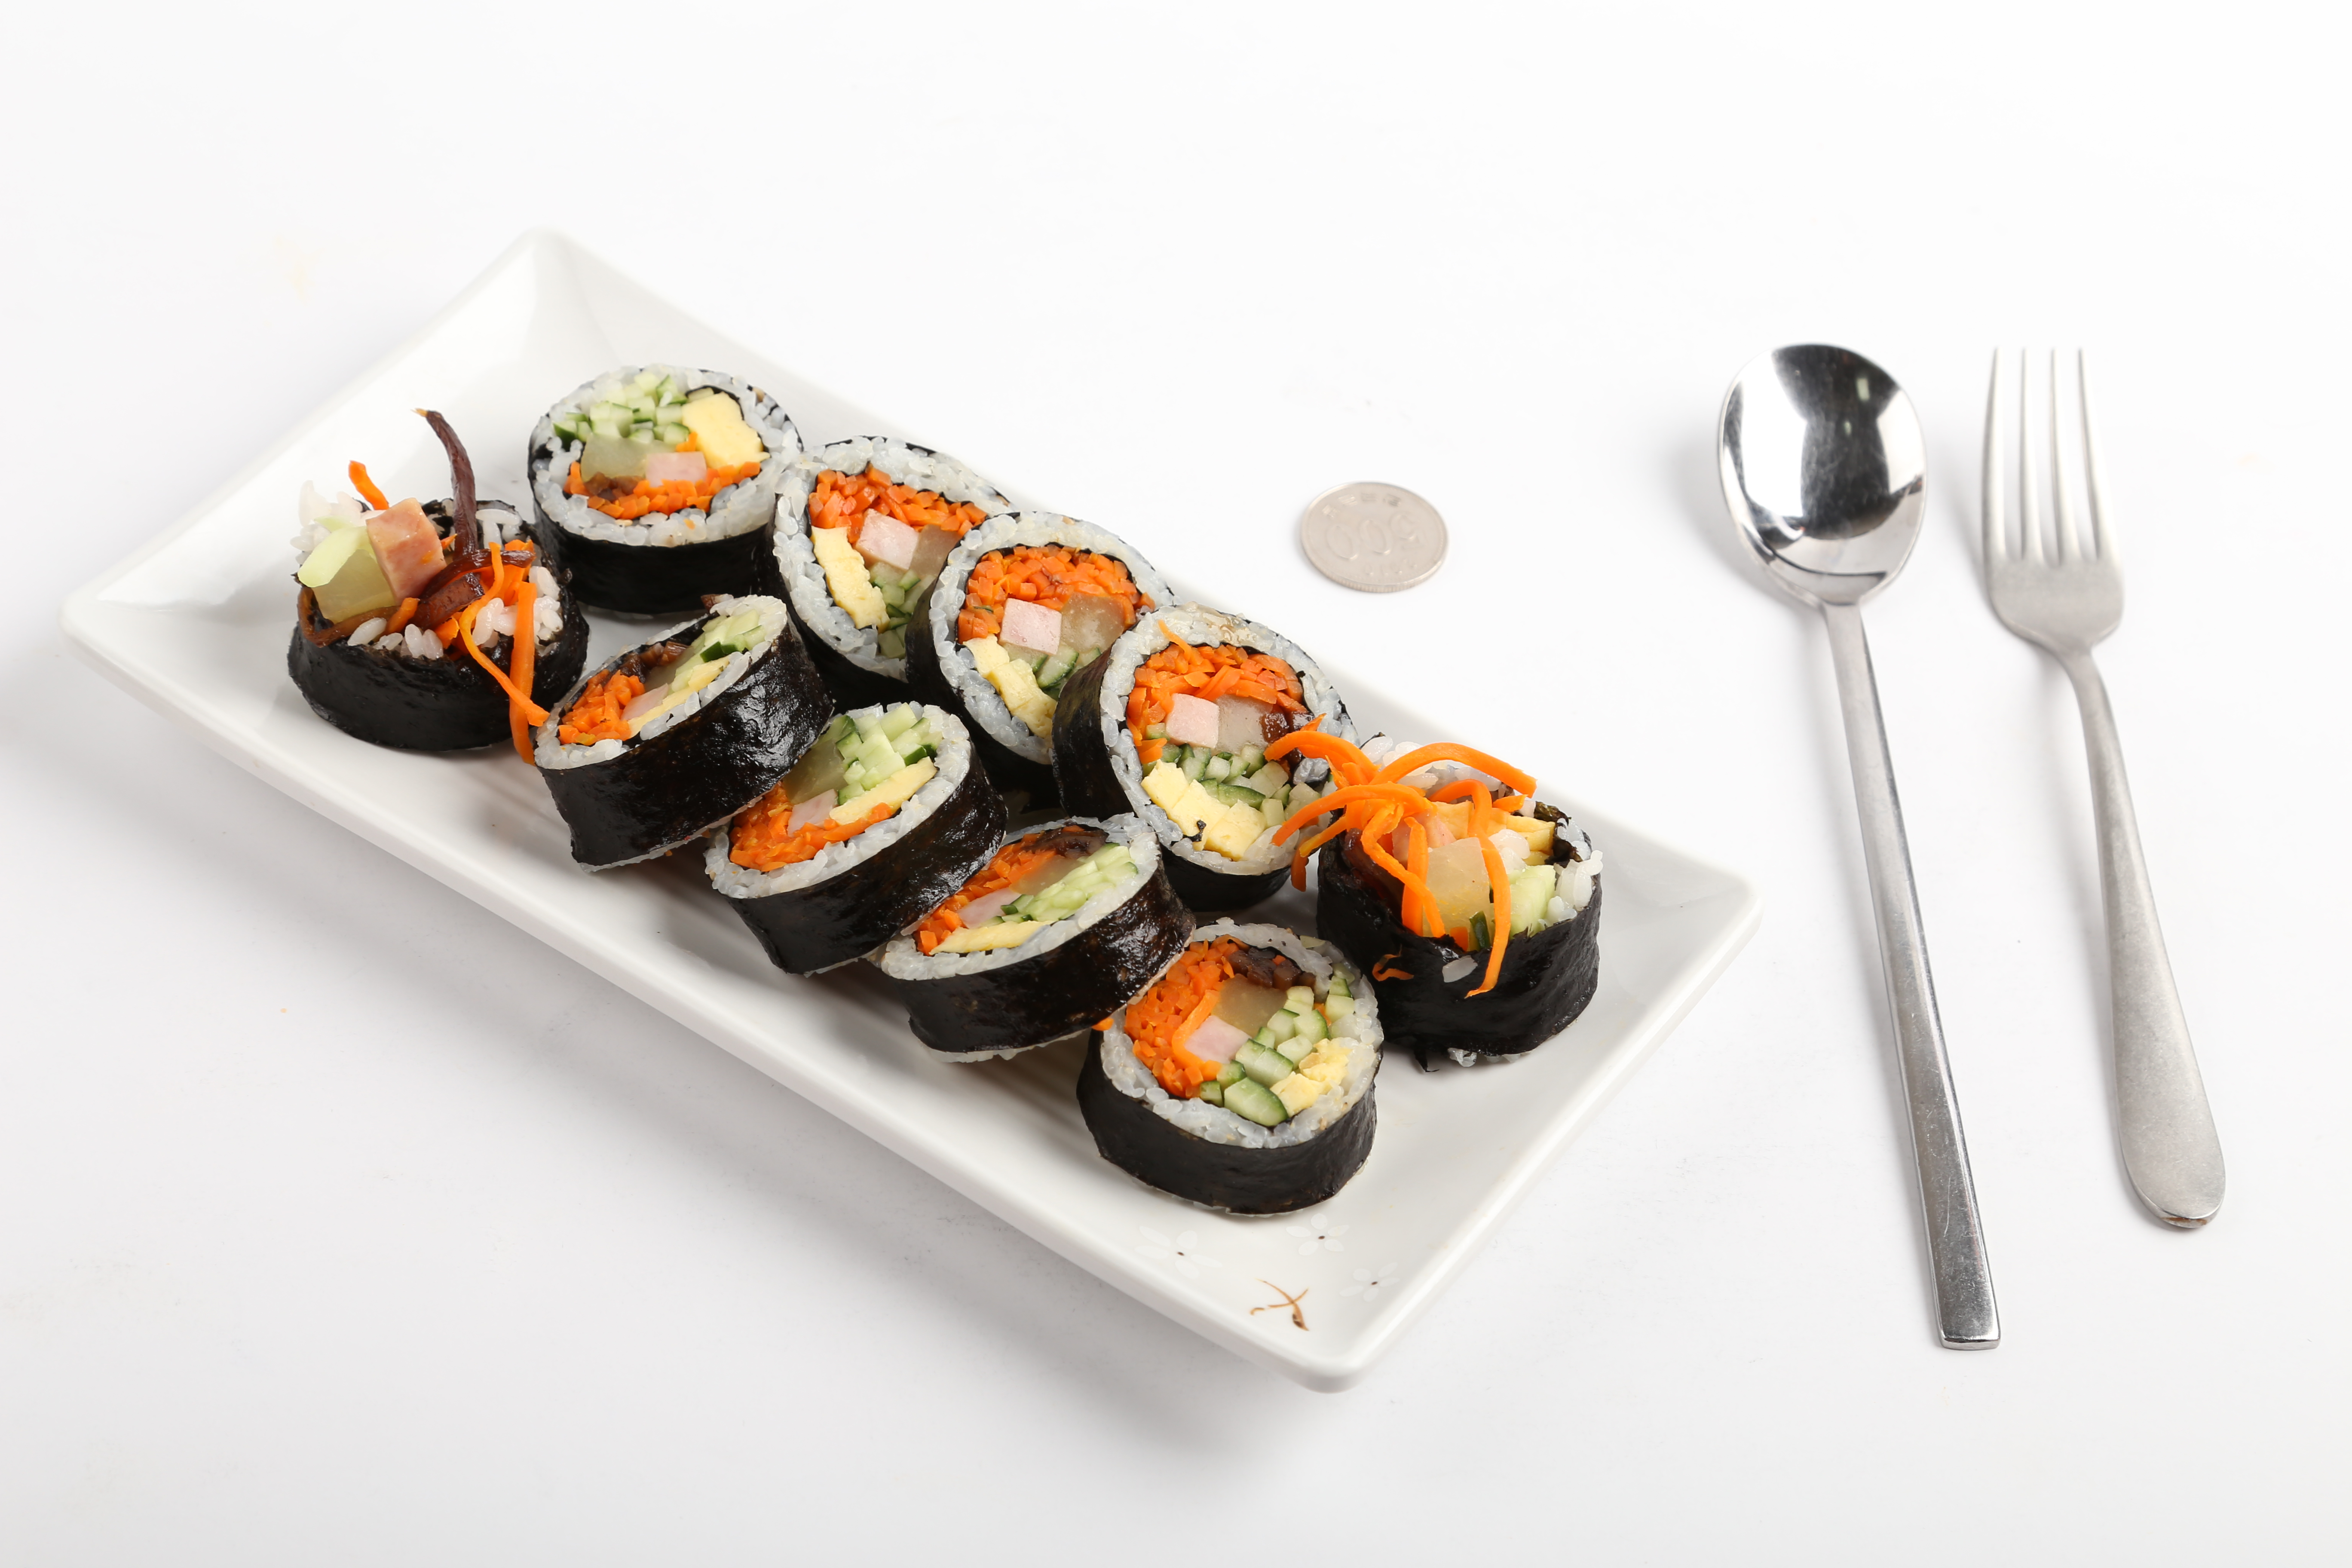dish: (51, 220, 1767, 1395)
ref_coin: (1288, 481, 1463, 595)
ref_fork: (1976, 343, 2128, 700)
ref_spoon: (1717, 338, 1927, 672)
김밥: (290, 362, 1606, 1220)
